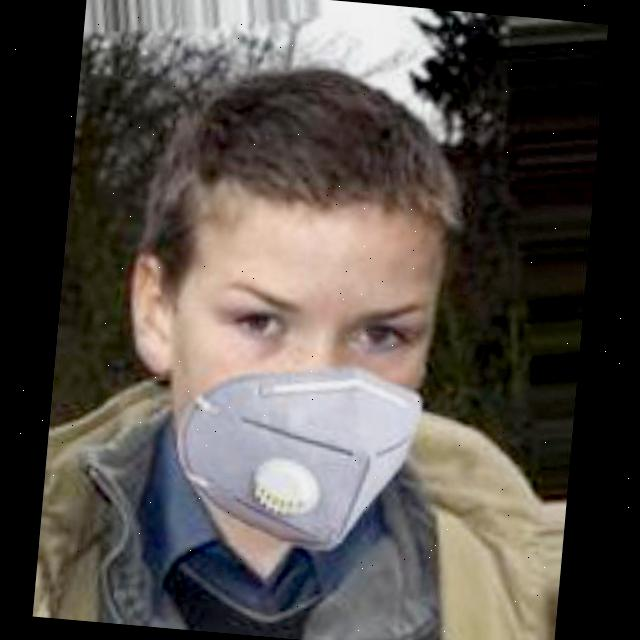suspicion: (94, 88, 483, 518)
